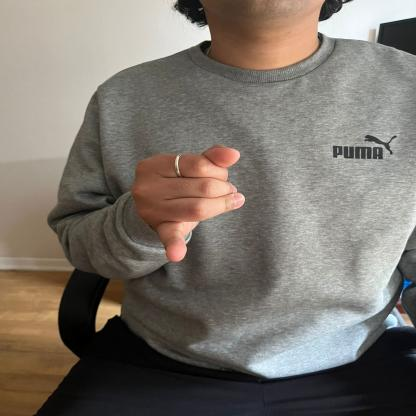Z: (129, 140, 251, 264)
